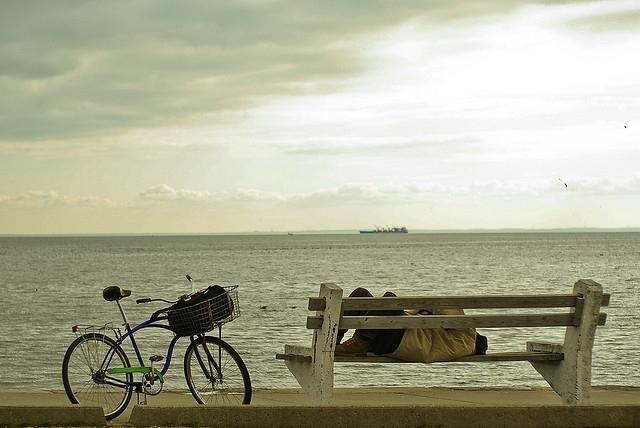bicycle: (61, 271, 255, 410)
